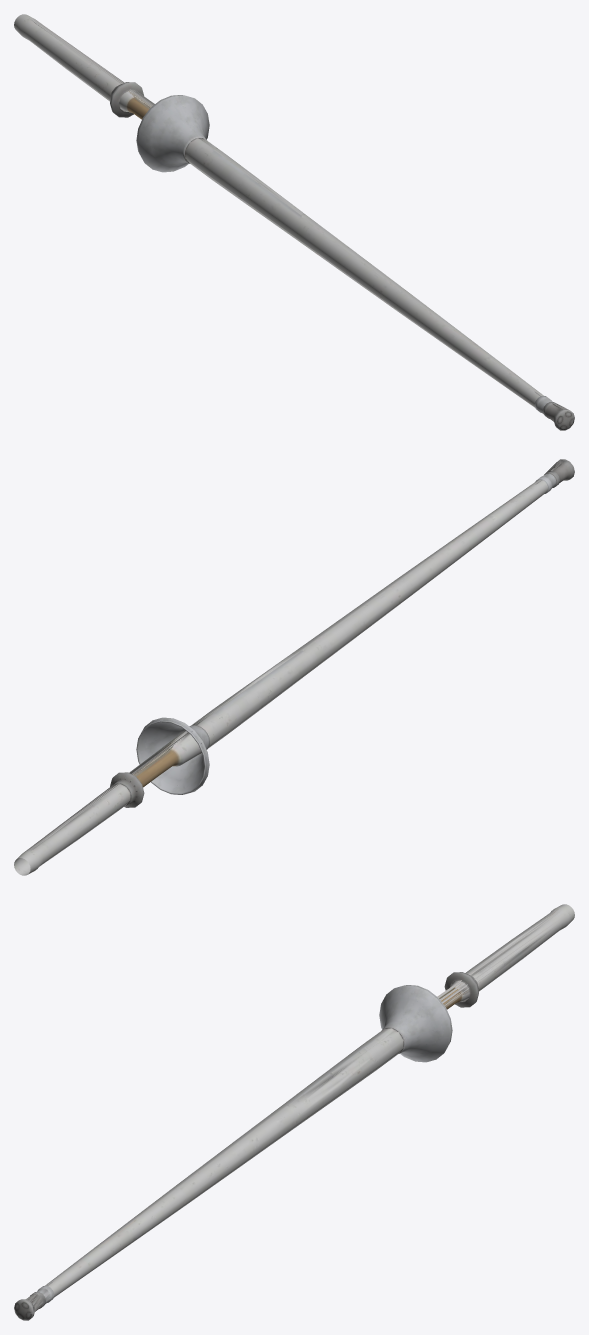
Rendered from lance_heavy_512.glb.
3 renders of one model, top to bottom at view 1: azimuth 30°, elevation 25°; view 2: azimuth 150°, elevation 25°; view 3: azimuth 330°, elevation 25°, orthographic.
Parts seen in each view (by area): view 1: lance_rear, lance_fore, lance_vamplate, coronel, lance_grapper; view 2: lance_rear, lance_fore, lance_vamplate, lance_grapper; view 3: lance_rear, lance_fore, lance_vamplate, lance_grapper, coronel.
Part boxes in pixels (box(x1,y1,x2,y2)): lance_rear: box(14, 14, 307, 238); lance_fore: box(291, 216, 543, 407); lance_vamplate: box(136, 95, 209, 172); coronel: box(543, 402, 574, 430); lance_grapper: box(110, 82, 143, 117); lance_rear: box(14, 650, 312, 875); lance_fore: box(296, 479, 548, 672); lance_vamplate: box(136, 717, 209, 794); lance_grapper: box(110, 772, 144, 807); lance_rear: box(281, 904, 574, 1128); lance_fore: box(45, 1106, 297, 1297); lance_vamplate: box(379, 985, 452, 1062); lance_grapper: box(444, 972, 478, 1007); coronel: box(14, 1292, 45, 1320).
Bounding box in the file's own units: 0.297 × 0.297 × 3.89.
1 material, 1 textured.
